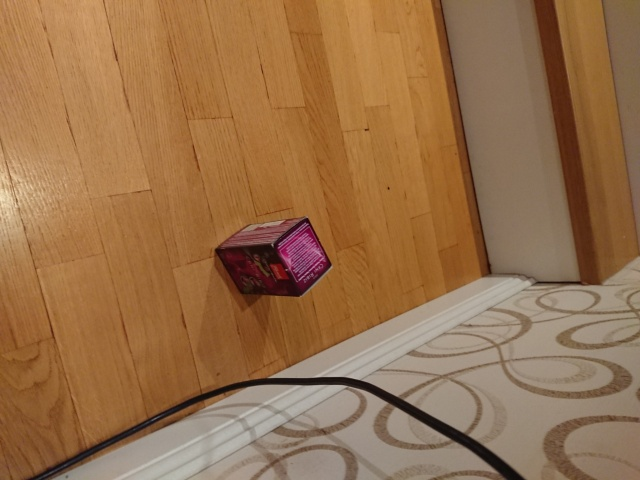Franck Black Currant Tea 60g: (213, 213, 335, 300)
